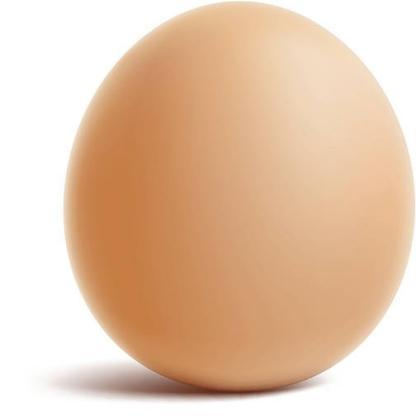egg: (65, 0, 416, 394)
